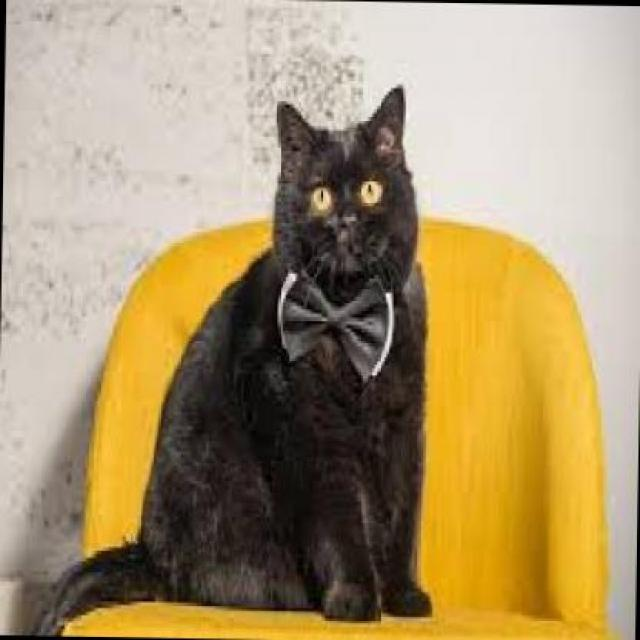animals: (38, 63, 458, 639)
